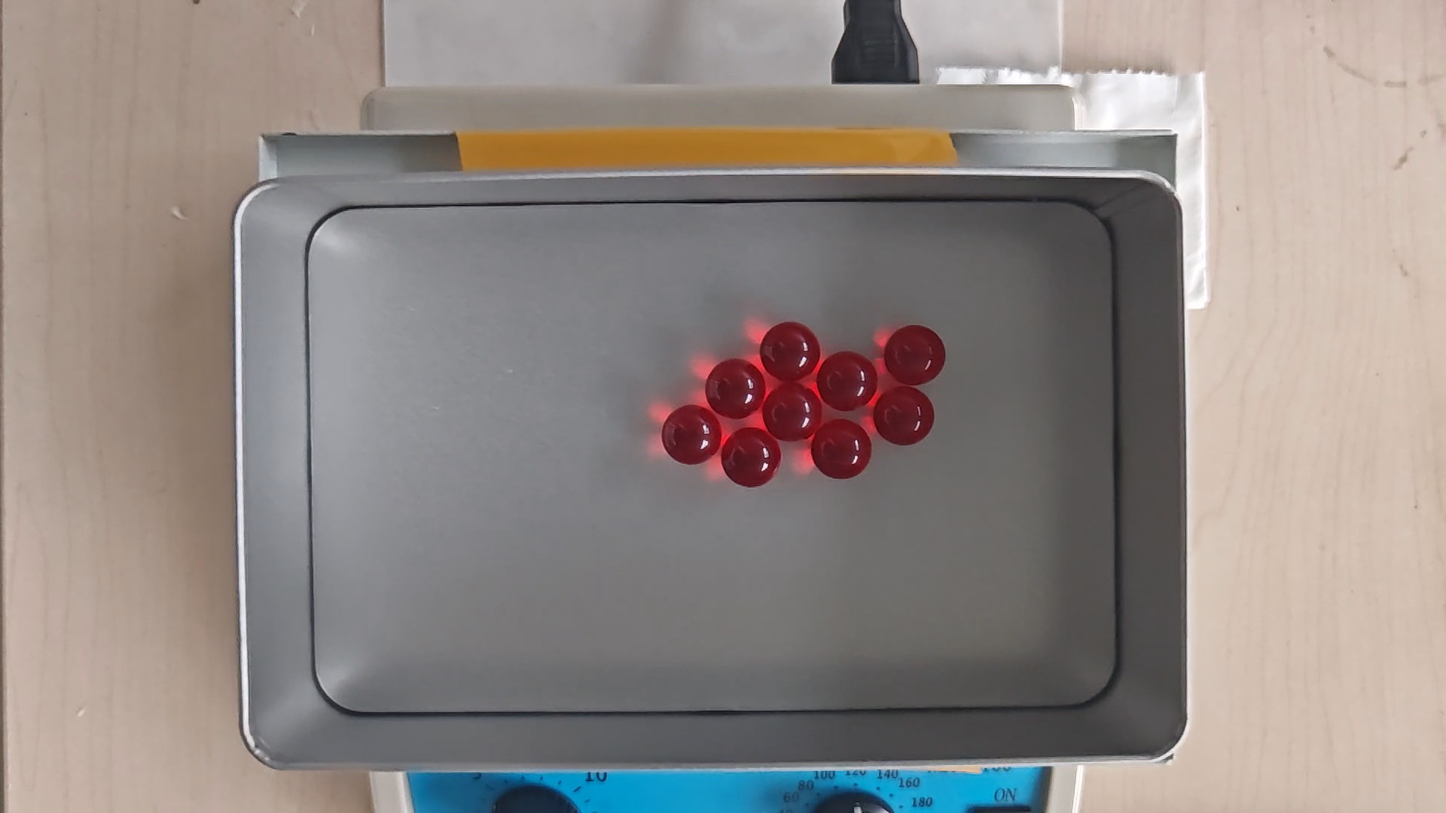ball: (882, 325, 947, 388), (759, 318, 821, 383), (810, 418, 873, 480), (703, 358, 766, 419), (873, 386, 935, 446), (721, 428, 781, 488), (662, 403, 719, 466), (817, 352, 877, 411), (762, 385, 821, 440)
container: (307, 199, 1121, 713)
